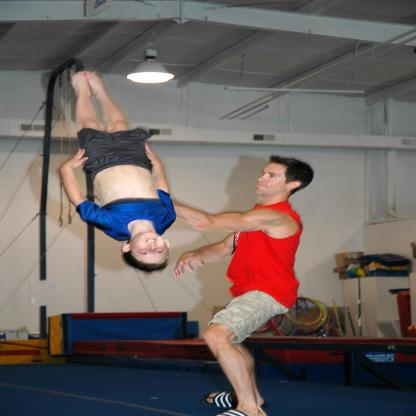face: (253, 163, 292, 195), (132, 234, 167, 269)
